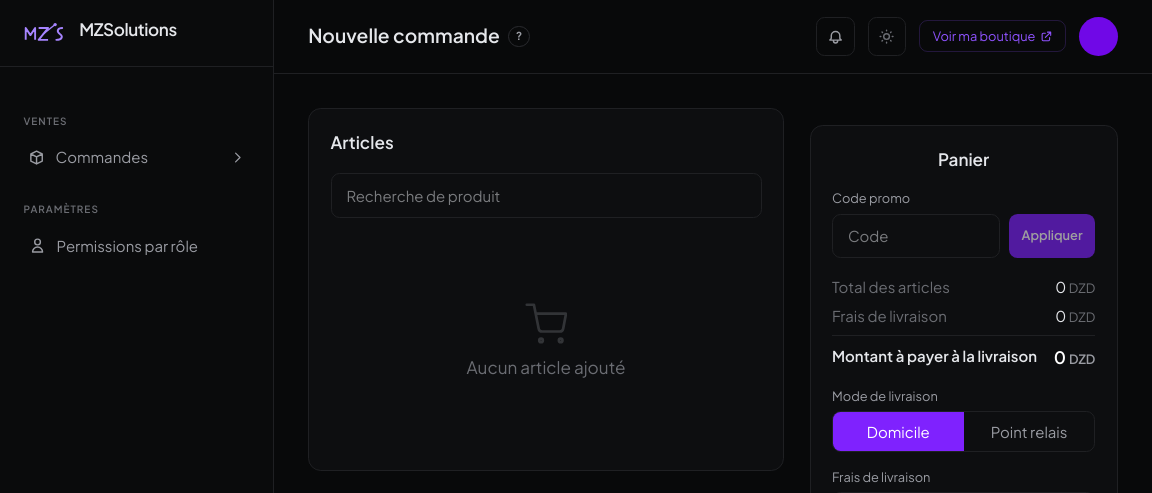
Test case: OrderFormPage › searches products, adds one to the cart, and computes the total
The width and height of the screenshot is (1152, 493).
Type "shirt" into the field with placeholder "Recherche de produit" at (546, 196), box [330,173,762,218]
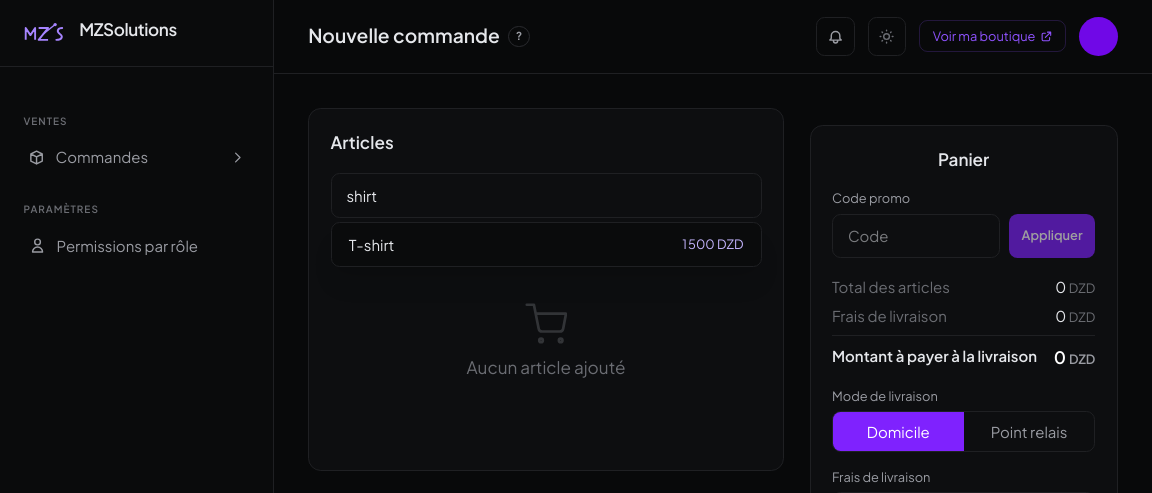
Click the text "T-shirt" at (371, 245), box [349,234,394,255]
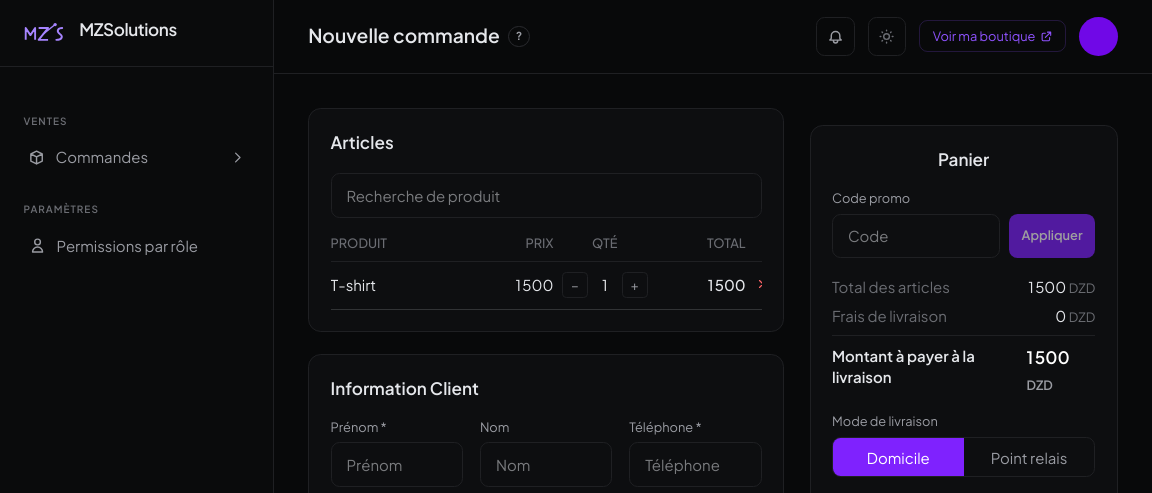
Expected: the 1st text "1 500" is shown, [466,261,553,309]
